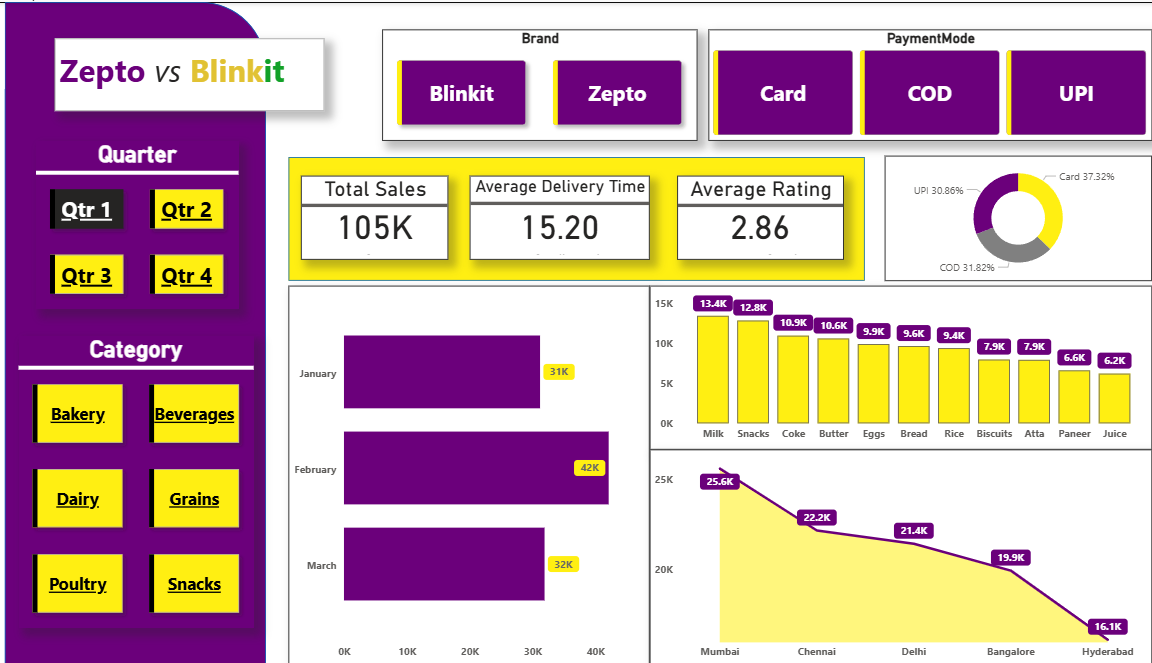

What the dashboard file says about the page in this screenshot:
{"tool":"powerbi","page":{"name":"Page 1","canvas":[1400,800],"ordinal":0},"visuals":[{"type":"shape","box":[10.5,0,313.7,800],"z":0},{"type":"textbox","box":[70.5,43,324.2,87.1],"z":2000},{"type":"advancedSlicerVisual","fields":{"Values":["Table2.Brand"]},"box":[463.8,33,378.2,133.6],"z":3000},{"type":"advancedSlicerVisual","fields":{"Values":["Table2.PaymentMode"]},"box":[855.5,33,532.8,133.6],"z":4000},{"type":"advancedSlicerVisual","title":" Quarter","fields":{"Values":["Table2.Date.Variation.Date Hierarchy.Quarter"]},"box":[48,166.6,243.1,202.6],"z":5000},{"type":"advancedSlicerVisual","title":" Category","fields":{"Values":["Table2.Category"]},"box":[27,400.7,282.2,351.2],"z":6000},{"type":"shape","box":[351.2,186.1,691.9,148.6],"z":7000},{"type":"card","title":"Total Sales","fields":{"Values":["Sum(Table2.Amount)"]},"box":[366.2,208.6,177.1,100.6],"z":8000},{"type":"card","title":"Average Delivery Time","fields":{"Values":["Avg(Table2.DeliveryTime(min))"]},"box":[568.8,208.6,216.1,100.6],"z":9000},{"type":"card","title":"Average Rating","fields":{"Values":["Avg(Table2.Rating)"]},"box":[818,208.6,199.6,100.6],"z":10000},{"type":"clusteredBarChart","fields":{"Category":["Table2.Date.Variation.Date Hierarchy.Month"],"Y":["Sum(Table2.Amount)"]},"box":[351.2,340.7,433.7,459.3],"z":11000},{"type":"columnChart","fields":{"Category":["Table2.Product"],"Y":["Sum(Table2.Amount)"]},"box":[785,340.7,603.3,196.6],"z":12000},{"type":"areaChart","fields":{"Category":["Table2.City"],"Y":["Sum(Table2.Amount)"]},"box":[785,538,603,262],"z":13000},{"type":"donutChart","fields":{"Category":["Table2.PaymentMode"],"Y":["Sum(Table2.Amount)"]},"box":[1067.1,184.6,321.2,150.1],"z":14000}]}

Visuals, with their boxes in screenshot pixels (x1, y1, x2, y2), scaled from the page's 1400x800 canvas onto the 1152x663 screenshot:
shape: <box>9,0,267,662</box>
textbox: <box>58,36,325,108</box>
advancedSlicerVisual - Table2.Brand: <box>382,27,693,138</box>
advancedSlicerVisual - Table2.PaymentMode: <box>704,27,1142,138</box>
" Quarter" advancedSlicerVisual: <box>39,138,240,306</box>
" Category" advancedSlicerVisual: <box>22,332,254,623</box>
shape: <box>289,154,858,277</box>
"Total Sales" card: <box>301,173,447,256</box>
"Average Delivery Time" card: <box>468,173,646,256</box>
"Average Rating" card: <box>673,173,837,256</box>
clusteredBarChart - Table2.Date.Variation.Date Hierarchy.Month x Sum(Table2.Amount): <box>289,282,646,662</box>
columnChart - Table2.Product x Sum(Table2.Amount): <box>646,282,1142,445</box>
areaChart - Table2.City x Sum(Table2.Amount): <box>646,446,1142,662</box>
donutChart - Table2.PaymentMode x Sum(Table2.Amount): <box>878,153,1142,277</box>
